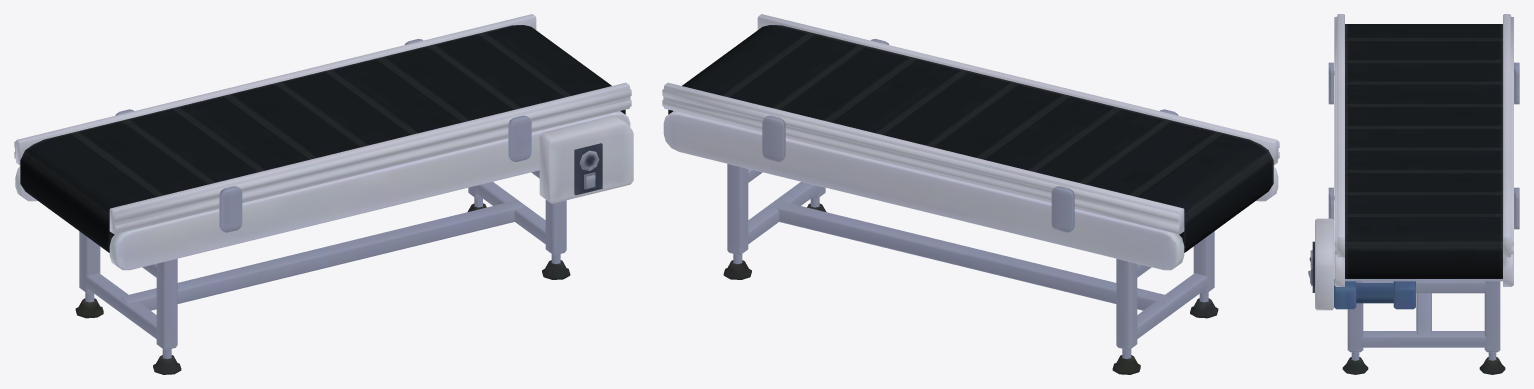
The picture shows the model from 3 angles, left to right: view 1: azimuth 30°, elevation 25°; view 2: azimuth 150°, elevation 25°; view 3: azimuth 270°, elevation 25°; orthographic projection. The views are drawn at different scales.
Size of the model in its own units: 20 by 6.7 by 8.01.
Materials: 2 (2 with a texture image).
